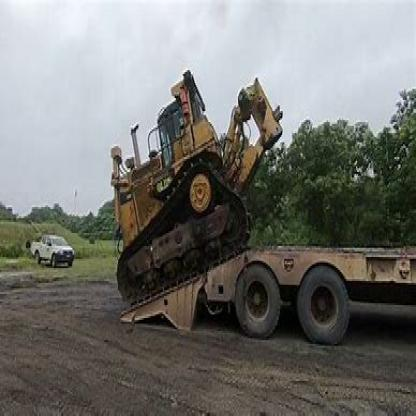bull_dozer/loader/grader: (96, 59, 286, 311)
